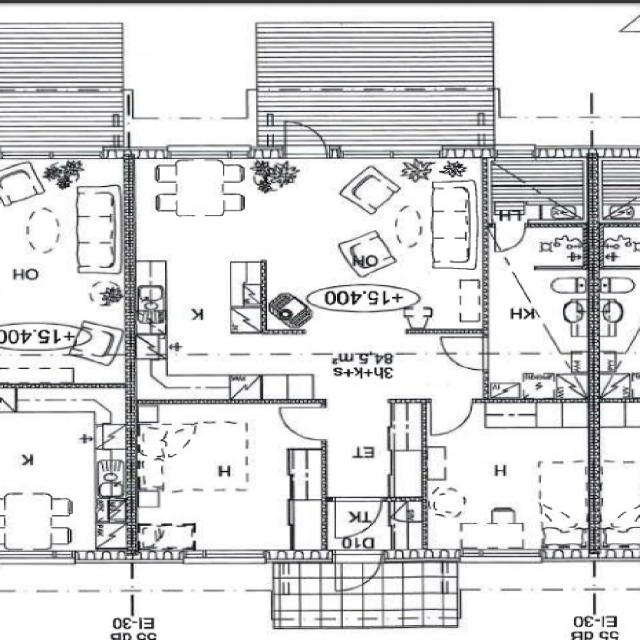door: (335, 550, 381, 598), (335, 497, 381, 537), (286, 115, 326, 159), (440, 337, 489, 370), (432, 398, 472, 434), (281, 408, 327, 439), (495, 219, 525, 250)
